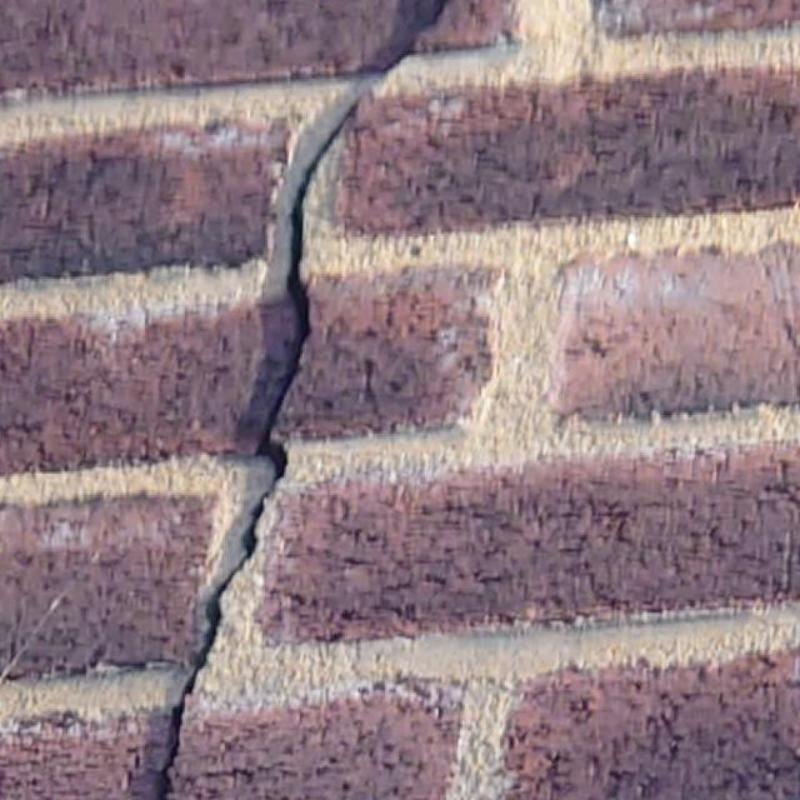pothole: (146, 0, 456, 799)
